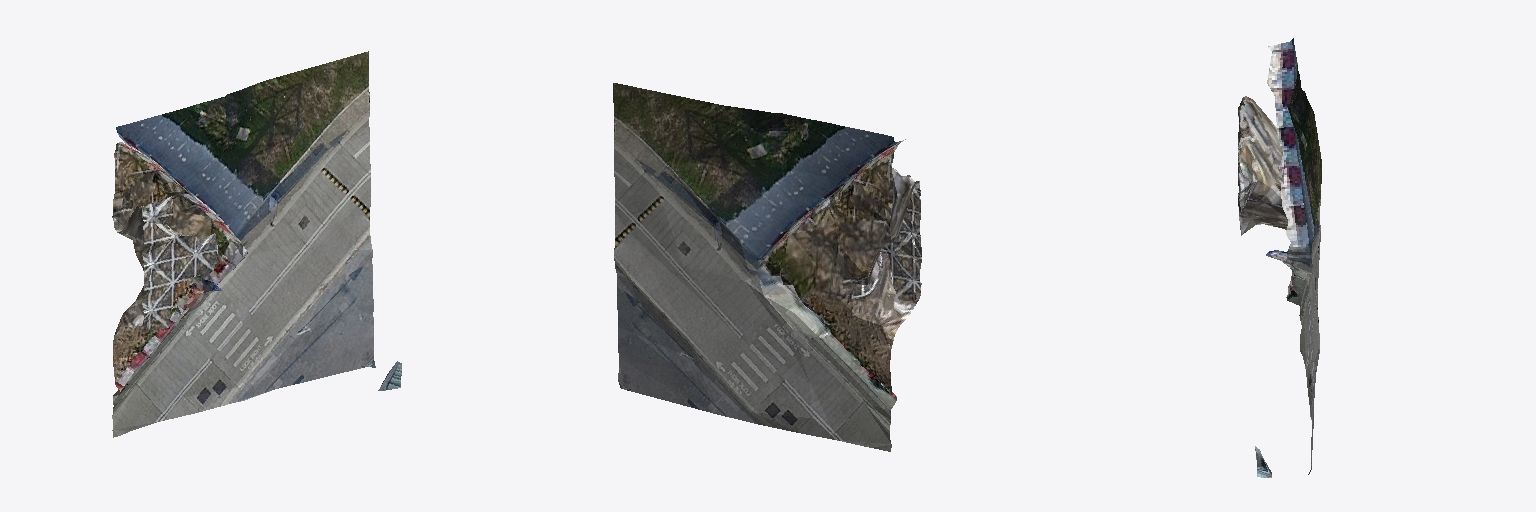
The picture shows the model from 3 angles: view 1: azimuth 30°, elevation 25°; view 2: azimuth 150°, elevation 25°; view 3: azimuth 270°, elevation 25°; orthographic projection.
Visible parts, largest first — view 1: obj_0; view 2: obj_0; view 3: obj_0.
Boxes of the visible parts, box(x1,y1,x2,y2) form: obj_0: box(112, 51, 401, 437); obj_0: box(613, 83, 921, 451); obj_0: box(1238, 38, 1321, 477).
Bounding box in the file's own units: 20.16 × 22.53 × 5.53.
Materials: 1 (1 with a texture image).